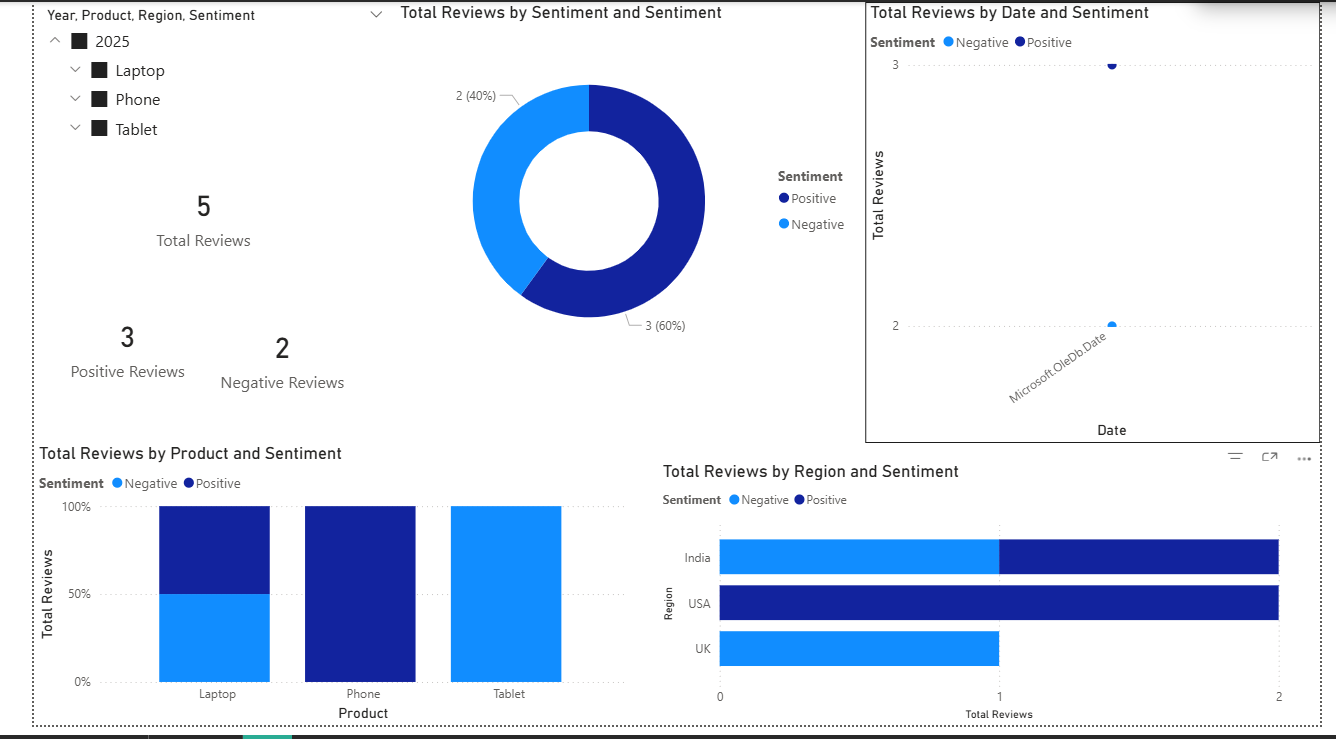

The dashboard page shown, as its layout file describes it:
{"tool":"powerbi","page":{"name":"Page 1","canvas":[1280,720],"ordinal":0},"visuals":[{"type":"card","fields":{"Values":["Sheet1.Total Reviews"]},"box":[0,129,337.6,166],"z":0},{"type":"card","fields":{"Values":["Sheet1.Positive Reviews"]},"box":[0,269,186.6,148.2],"z":1000},{"type":"card","fields":{"Values":["Sheet1.Negative Reviews"]},"box":[156.4,269,181.1,170.2],"z":2000},{"type":"donutChart","fields":{"Category":["FactReviews.Sentiment"],"Series":["FactReviews.Sentiment"],"Y":["Sheet1.Total Reviews"]},"box":[359.5,0,467.9,377.4],"z":3000},{"type":"hundredPercentStackedColumnChart","fields":{"Category":["FactReviews.Product"],"Series":["FactReviews.Sentiment"],"Y":["Sheet1.Total Reviews"]},"box":[0,439.1,594.2,281.3],"z":4000},{"type":"lineChart","fields":{"Series":["FactReviews.Sentiment"],"Y":["Sheet1.Total Reviews"],"Category":["FactReviews.Date"]},"box":[827.4,0,452.8,439.1],"z":5000},{"type":"barChart","fields":{"Category":["FactReviews.Region"],"Series":["FactReviews.Sentiment"],"Y":["Sheet1.Total Reviews"]},"box":[620.2,456.9,627.1,263.5],"z":6000},{"type":"slicer","fields":{"Values":["FactReviews.Year","FactReviews.Product","FactReviews.Region","FactReviews.Sentiment"]},"box":[0,0,359.5,166],"z":7000}]}

Visuals, with their boxes in screenshot pixels (x1, y1, x2, y2), scaled from the page's 1280x720 canvas onto the 1336x739 screenshot:
card - Sheet1.Total Reviews: <region>0, 132, 352, 303</region>
card - Sheet1.Positive Reviews: <region>0, 276, 195, 428</region>
card - Sheet1.Negative Reviews: <region>163, 276, 352, 451</region>
donutChart - FactReviews.Sentiment x FactReviews.Sentiment: <region>375, 0, 864, 387</region>
hundredPercentStackedColumnChart - FactReviews.Product x FactReviews.Sentiment: <region>0, 451, 620, 738</region>
lineChart - FactReviews.Sentiment x Sheet1.Total Reviews: <region>864, 0, 1335, 451</region>
barChart - FactReviews.Region x FactReviews.Sentiment: <region>647, 469, 1302, 738</region>
slicer - FactReviews.Year x FactReviews.Product: <region>0, 0, 375, 170</region>
